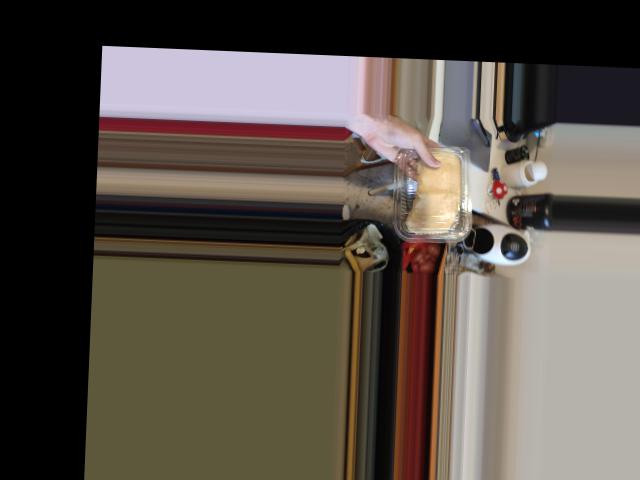cheese: (387, 147, 482, 236)
